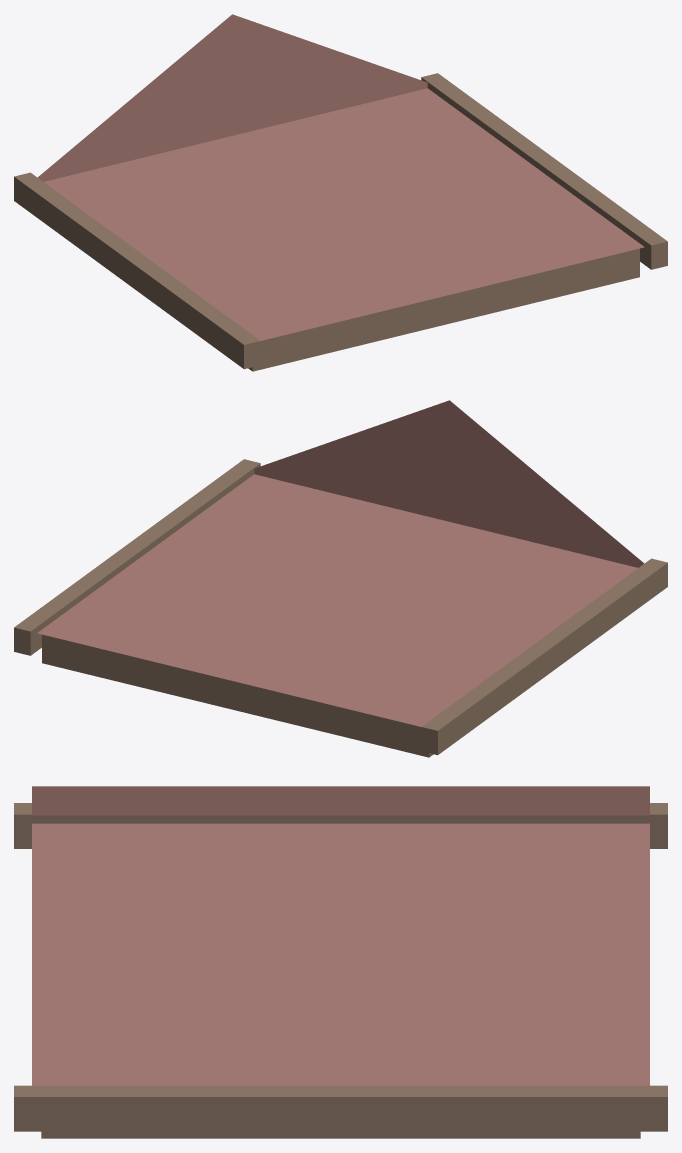
File: telhado_rufo_vermelho.glb
The picture shows the model from 3 angles, top to bottom: view 1: azimuth 30°, elevation 25°; view 2: azimuth 150°, elevation 25°; view 3: azimuth 270°, elevation 25°; orthographic projection. The views are drawn at different scales.
Visible parts, largest first — view 1: part_000, part_001, part_002, part_003; view 2: part_000, part_001, part_002, part_003; view 3: part_000, part_003, part_002, part_001.
Boxes of the visible parts, x1=… form: part_000: x1=38, y1=14, x2=644, y2=340; part_001: x1=248, y1=248, x2=639, y2=371; part_002: x1=14, y1=172, x2=260, y2=369; part_003: x1=421, y1=73, x2=667, y2=269; part_000: x1=37, y1=400, x2=643, y2=726; part_001: x1=42, y1=634, x2=433, y2=757; part_002: x1=421, y1=558, x2=667, y2=755; part_003: x1=14, y1=459, x2=260, y2=655; part_000: x1=32, y1=786, x2=649, y2=1085; part_003: x1=14, y1=1085, x2=667, y2=1131; part_002: x1=14, y1=803, x2=667, y2=848; part_001: x1=41, y1=1131, x2=640, y2=1138.
Bounding box in the file's own units: 3.83 × 1.33 × 3.6.
